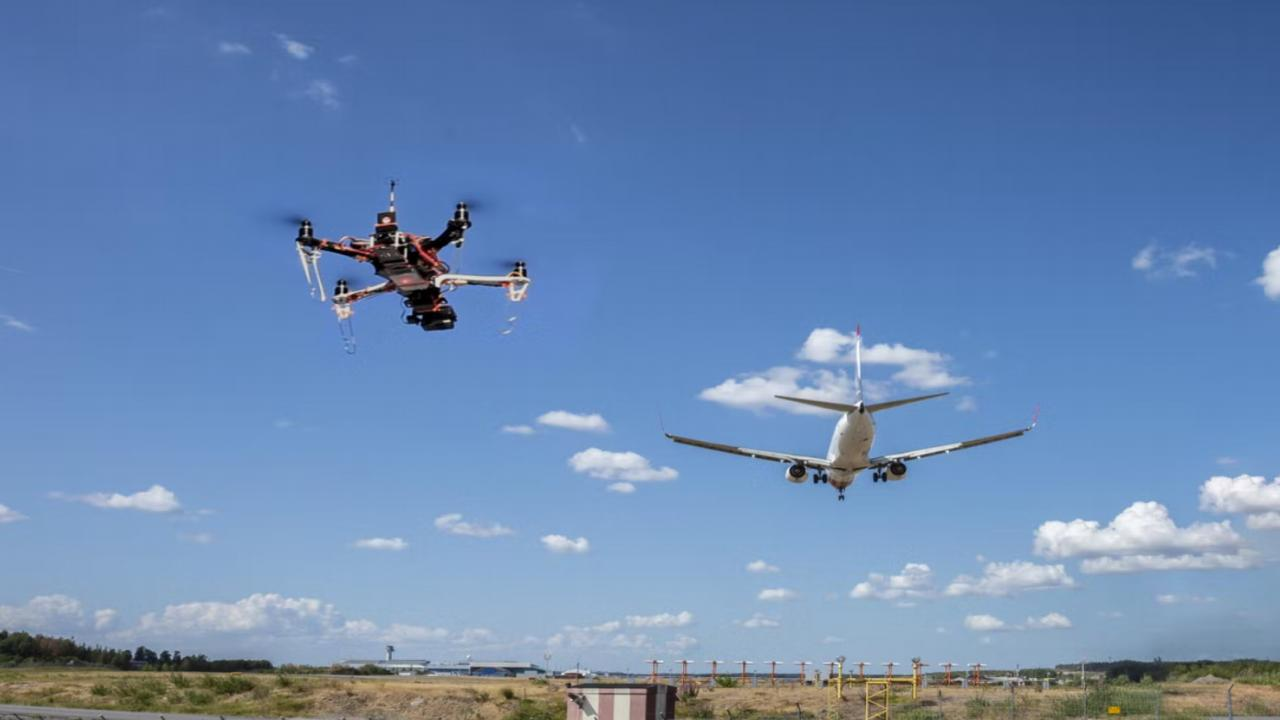Airplane: (636, 318, 1058, 511)
Drone: (249, 161, 550, 365)
